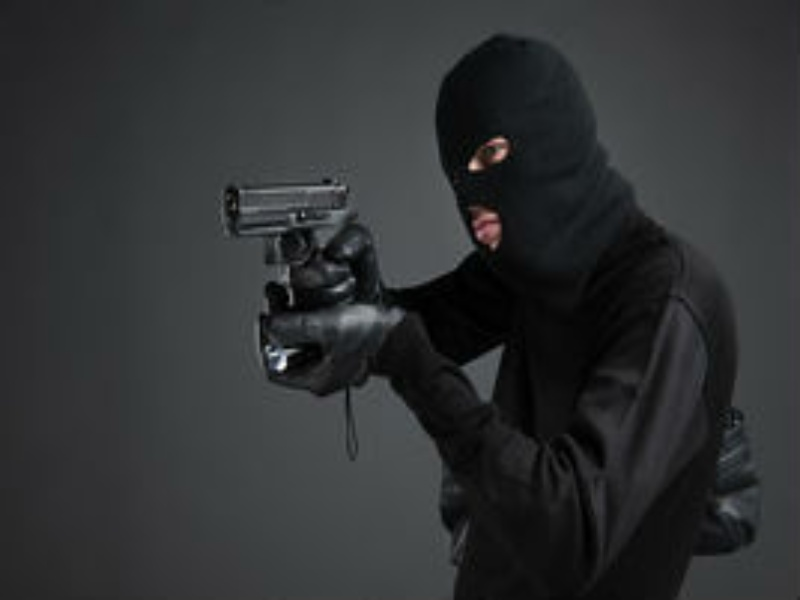balaclava: (435, 33, 637, 282)
gun: (221, 176, 351, 294)
hand: (256, 280, 422, 396)
person: (260, 36, 762, 600)
